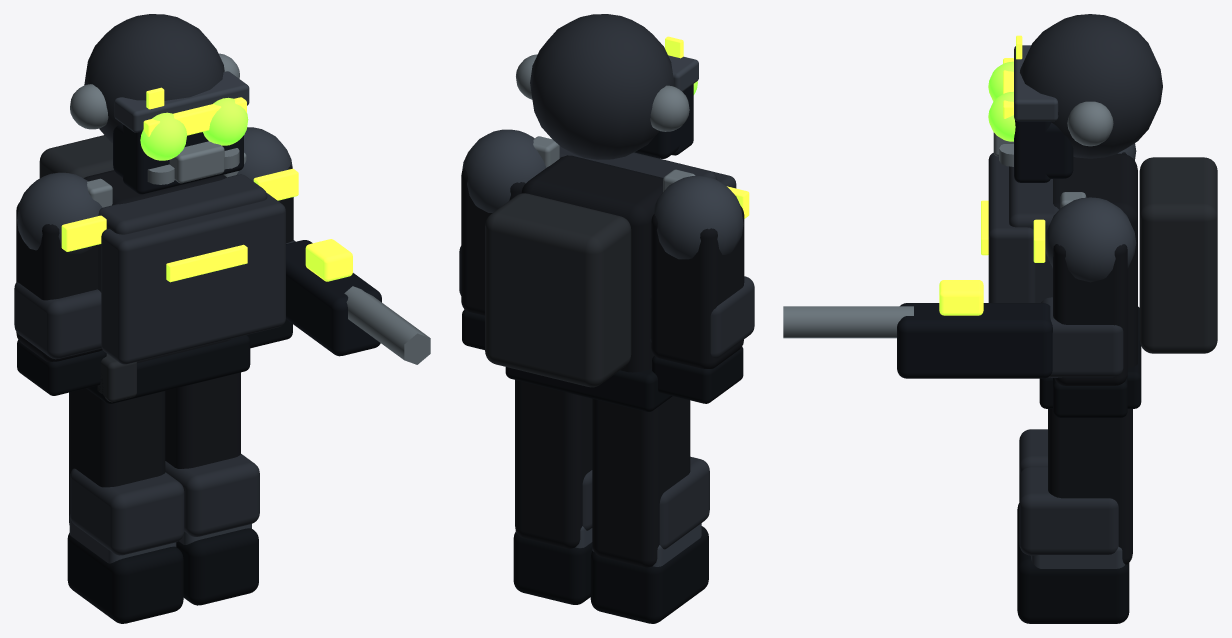
The model's file is sentinel_l01.glb.
The picture shows the model from 3 angles, left to right: view 1: azimuth 30°, elevation 25°; view 2: azimuth 150°, elevation 25°; view 3: azimuth 270°, elevation 25°; orthographic projection. The views are drawn at different scales.
Parts seen in each view (by area): view 1: tactical_chest_plate, trouser (×2), shaped_knee_guard (×2), boot (×2), rounded_helmet, shoulder_joint (×2), heavy_carbine, segmented_vest, forearm_plate, sleeve, belt, glove (×2) (+16 smaller); view 2: field_pack, trouser (×2), rounded_helmet, sleeve (×2), boot (×2), shoulder_joint (×2), body, glove (×2), shaped_knee_guard (×2), belt, forearm_plate, helmet_comm (×2) (+6 smaller); view 3: field_pack, rounded_helmet, heavy_carbine, trouser, shaped_knee_guard (×2), boot, shoulder_joint, sleeve, tactical_chest_plate, body, heavy_barrel, forearm_plate (+10 smaller).
Boxes of the visible parts, x1,y1,x2,y2 form: tactical_chest_plate: (101, 193, 285, 364); trouser (×2): (69, 372, 240, 524); shaped_knee_guard (×2): (70, 454, 259, 555); boot (×2): (67, 528, 258, 623); rounded_helmet: (84, 14, 224, 142); shoulder_joint (×2): (17, 127, 292, 254); heavy_carbine: (286, 240, 381, 356); segmented_vest: (98, 174, 267, 292); forearm_plate: (14, 282, 101, 359); sleeve: (16, 202, 102, 361); belt: (86, 335, 250, 403); glove (×2): (17, 319, 292, 395); field_pack: (485, 193, 631, 387); trouser (×2): (515, 380, 690, 567); rounded_helmet: (530, 14, 674, 159); sleeve (×2): (461, 168, 744, 368); boot (×2): (513, 526, 708, 623); shoulder_joint (×2): (462, 129, 743, 259); body: (521, 155, 663, 372); glove (×2): (462, 309, 743, 403); shaped_knee_guard (×2): (582, 456, 709, 549); belt: (505, 367, 672, 411); forearm_plate: (650, 276, 754, 358); helmet_comm (×2): (516, 54, 689, 131); field_pack: (1139, 157, 1217, 353); rounded_helmet: (1020, 14, 1162, 158); heavy_carbine: (897, 303, 1052, 378); trouser: (1048, 409, 1132, 564); shaped_knee_guard (×2): (1019, 429, 1118, 555); boot: (1017, 540, 1129, 623); shoulder_joint: (1045, 197, 1136, 282); sleeve: (1053, 244, 1127, 385); tactical_chest_plate: (988, 152, 1035, 302); body: (1053, 153, 1137, 368); heavy_barrel: (783, 306, 913, 338); forearm_plate: (1041, 297, 1123, 377).
Size of the model in its own units: 0.92 by 1.86 by 1.28.
